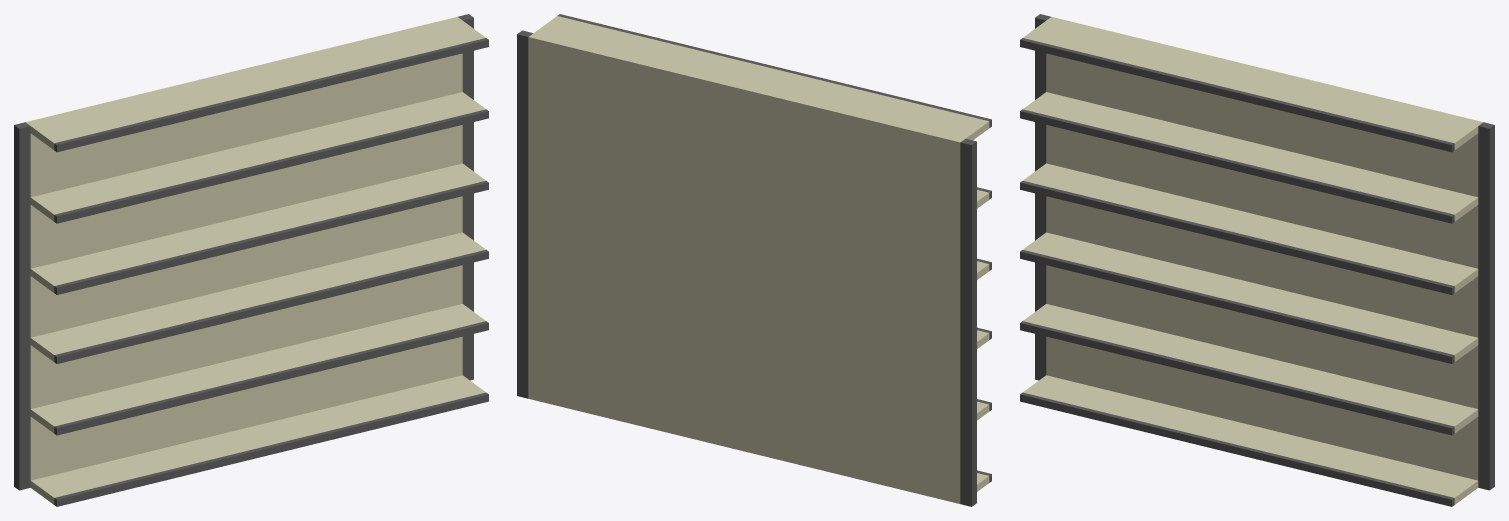
The model's file is Wall Shelf.fbx.
3 renders of one model, left to right at view 1: azimuth 30°, elevation 25°; view 2: azimuth 150°, elevation 25°; view 3: azimuth 330°, elevation 25°, orthographic.
Visible parts, largest first — view 1: Wall Shelf; view 2: Wall Shelf; view 3: Wall Shelf.
Boxes of the visible parts, x1,y1,x2,y2 form: Wall Shelf: (14,14,488,506); Wall Shelf: (517,14,991,506); Wall Shelf: (1020,14,1494,506).
Size of the model in its own units: 1000 by 760 by 120.
